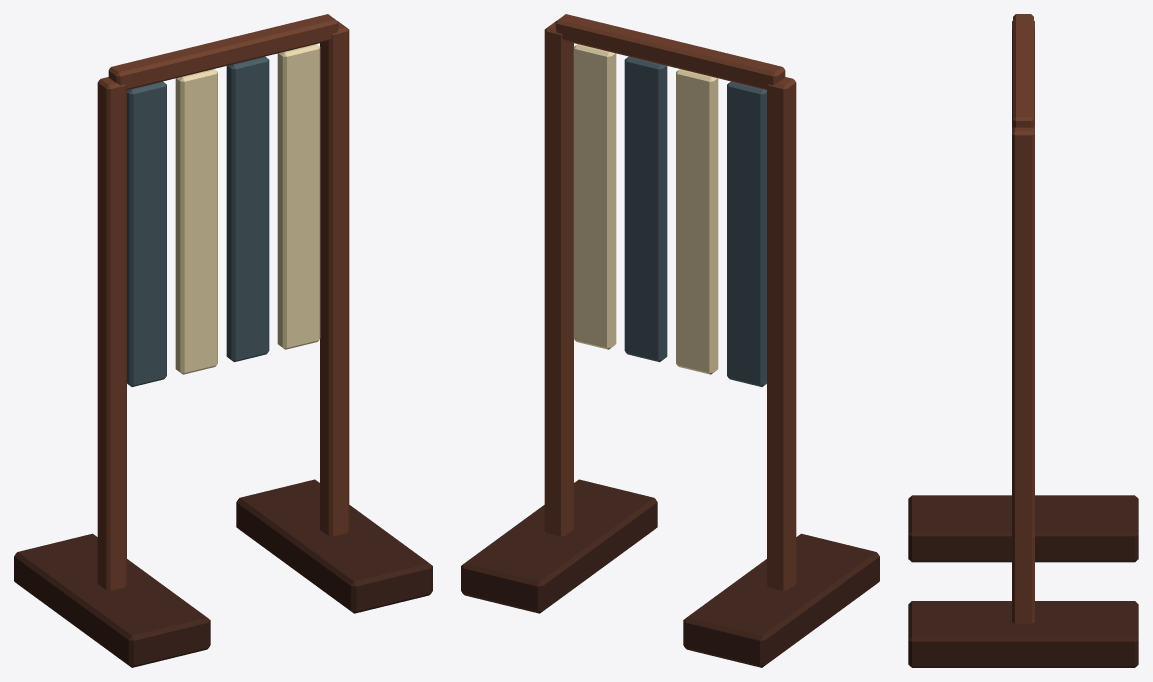
Rendered from cloth_rack.glb.
The picture shows the model from 3 angles, left to right: view 1: azimuth 30°, elevation 25°; view 2: azimuth 150°, elevation 25°; view 3: azimuth 270°, elevation 25°; orthographic projection. The views are drawn at different scales.
Parts seen in each view (by area): view 1: Upright, Upright_001, Foot, Foot_001, Towel_002, Towel_003, Towel_001, Towel, Rail; view 2: Upright, Upright_001, Foot, Foot_001, Towel_002, Towel_003, Towel_001, Towel, Rail; view 3: Foot_001, Foot, Upright_001, Rail.
Part boxes in pixels (bbox=[...]): Upright: bbox=[97, 77, 126, 590]; Upright_001: bbox=[320, 21, 349, 536]; Foot: bbox=[14, 533, 210, 667]; Foot_001: bbox=[236, 479, 432, 613]; Towel_002: bbox=[226, 56, 269, 362]; Towel_003: bbox=[277, 44, 320, 349]; Towel_001: bbox=[175, 69, 217, 374]; Towel: bbox=[127, 81, 166, 386]; Rail: bbox=[108, 14, 338, 89]; Upright: bbox=[767, 77, 796, 590]; Upright_001: bbox=[544, 21, 573, 536]; Foot: bbox=[683, 533, 879, 667]; Foot_001: bbox=[461, 479, 657, 613]; Towel_002: bbox=[624, 56, 667, 362]; Towel_003: bbox=[573, 44, 616, 349]; Towel_001: bbox=[676, 69, 718, 374]; Towel: bbox=[727, 81, 766, 386]; Rail: bbox=[555, 14, 785, 89]; Foot_001: bbox=[908, 601, 1138, 667]; Foot: bbox=[908, 495, 1138, 562]; Upright_001: bbox=[1012, 126, 1034, 623]; Rail: bbox=[1013, 14, 1033, 127].
Size of the model in its own units: 0.89 by 1.53 by 0.6.
